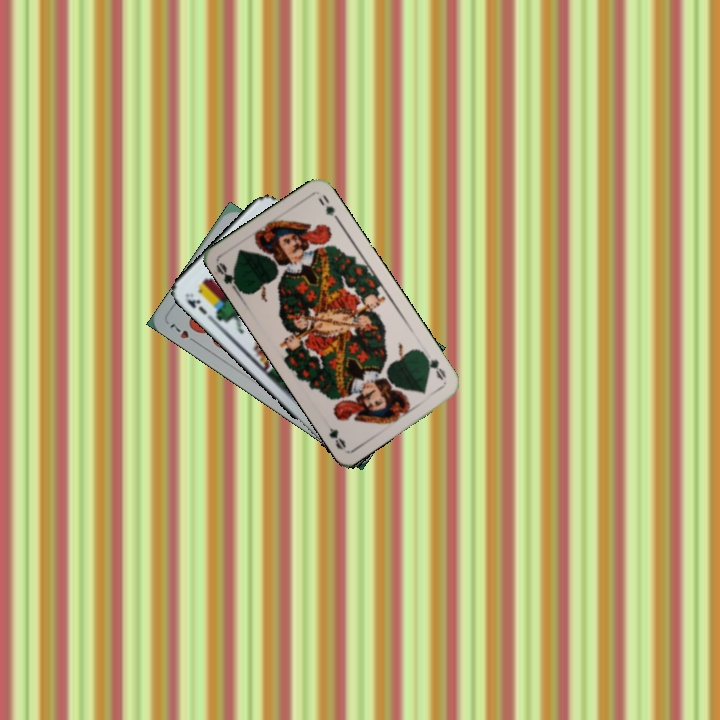EK: (181, 293, 210, 317)
GO: (212, 259, 245, 296), (419, 350, 449, 383)
H7: (165, 319, 201, 347)
